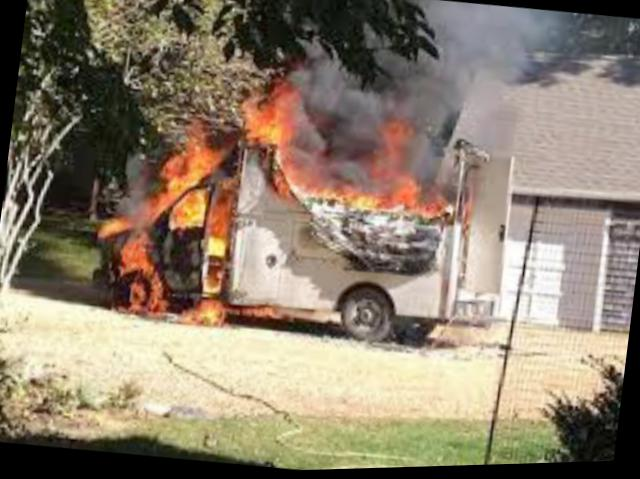fire: (62, 111, 245, 345), (218, 86, 470, 243)
